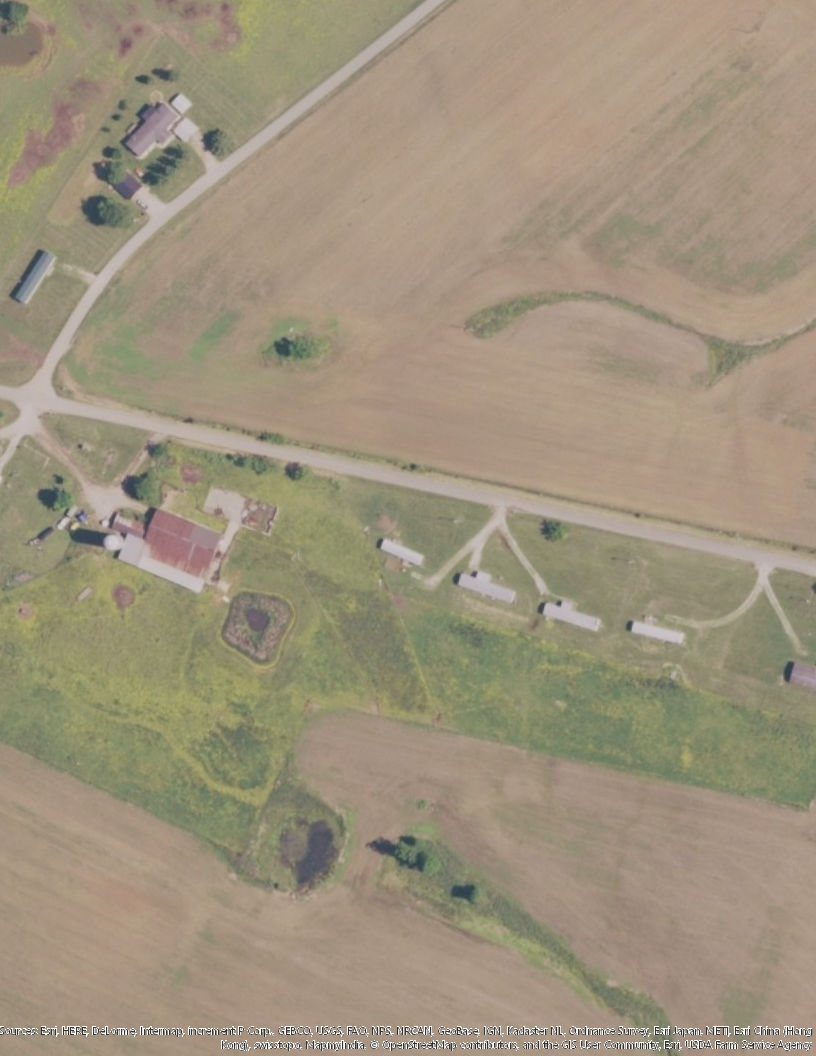cafo: (104, 501, 230, 595), (538, 595, 607, 637), (454, 569, 520, 606), (626, 613, 691, 648), (374, 531, 429, 568)
